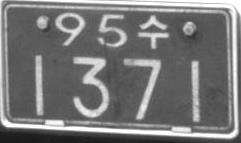1: (178, 60, 213, 122), (22, 54, 56, 116)
3: (71, 56, 110, 119)
5: (97, 12, 128, 48)
7: (123, 56, 161, 121)
9: (54, 10, 86, 45)
수: (135, 13, 168, 49)
